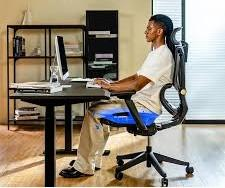Good Sitting Posture: (80, 16, 209, 125)
